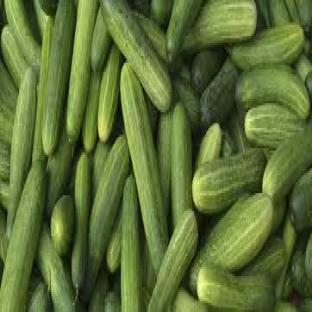Cucumber: (121, 63, 168, 271), (190, 194, 273, 291), (83, 135, 130, 300), (0, 162, 46, 311), (7, 68, 37, 237), (149, 209, 198, 311), (193, 149, 265, 215), (236, 66, 310, 118), (263, 126, 311, 202), (197, 265, 274, 311), (37, 225, 76, 311), (231, 23, 303, 69), (32, 18, 53, 163), (170, 104, 193, 228), (121, 176, 142, 311), (245, 104, 305, 148), (72, 153, 91, 289), (200, 59, 238, 127), (46, 126, 74, 215), (98, 45, 122, 141), (133, 12, 169, 65), (244, 238, 285, 282), (275, 214, 296, 298), (1, 25, 27, 87), (0, 61, 18, 145), (173, 77, 200, 132), (82, 72, 100, 152), (192, 50, 224, 94), (51, 196, 74, 255), (290, 169, 311, 231), (91, 9, 111, 71), (92, 142, 110, 199), (107, 205, 122, 273), (197, 124, 221, 166), (229, 108, 250, 152), (89, 268, 109, 311), (292, 252, 311, 296), (172, 288, 207, 311), (142, 241, 156, 294), (28, 281, 51, 311), (145, 95, 159, 136), (271, 200, 287, 235), (295, 54, 311, 83), (0, 209, 8, 264), (102, 290, 121, 311), (221, 131, 236, 157), (0, 142, 10, 181), (282, 270, 293, 298), (0, 180, 9, 210), (179, 63, 191, 83), (275, 301, 297, 311), (306, 236, 311, 280), (112, 270, 120, 294), (296, 299, 311, 311), (142, 288, 150, 309), (306, 72, 311, 101), (303, 39, 311, 56), (263, 149, 274, 161)
